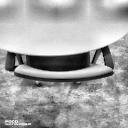chair_fail: (6, 46, 114, 82)
